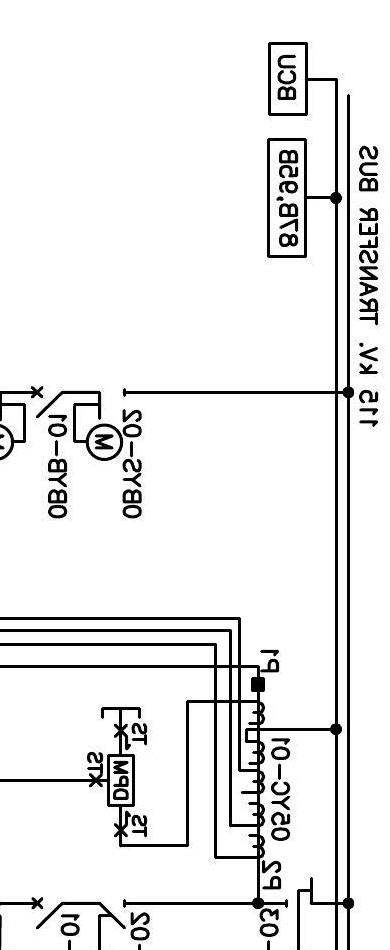115_1way_ds_w_motor: (73, 388, 127, 462)
115_breaker: (30, 385, 64, 419), (31, 897, 64, 930)
BCU: (267, 41, 309, 117)
DPM: (107, 753, 135, 807)
